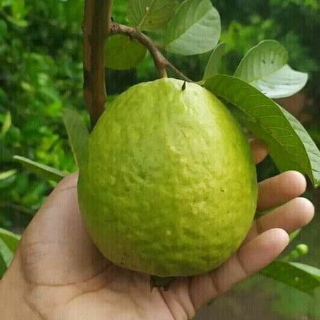oi: (78, 76, 259, 289)
